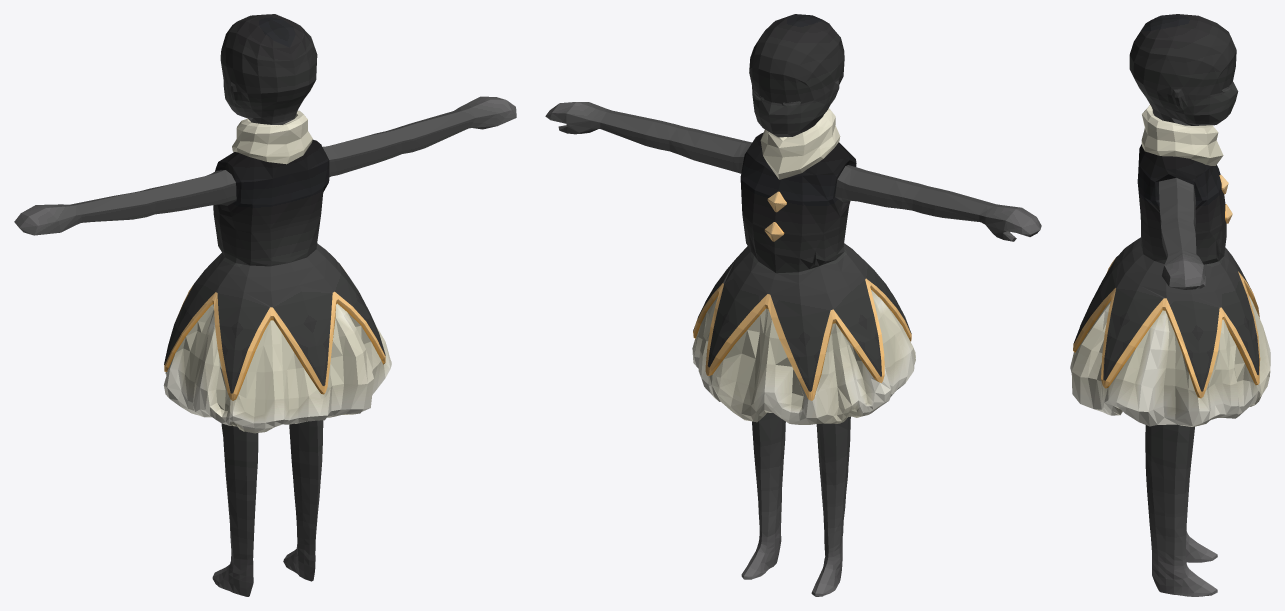
The model's file is CharSkyKid_Body_AP30PuffyDress.glb.
3 renders of one model, left to right at view 1: azimuth 30°, elevation 25°; view 2: azimuth 150°, elevation 25°; view 3: azimuth 270°, elevation 25°, orthographic.
Visible parts, largest first — view 1: CharSkyKid_Body_AP30PuffyDress; view 2: CharSkyKid_Body_AP30PuffyDress; view 3: CharSkyKid_Body_AP30PuffyDress.
Boxes of the visible parts, bbox=[...] form: CharSkyKid_Body_AP30PuffyDress: bbox=[14, 14, 516, 596]; CharSkyKid_Body_AP30PuffyDress: bbox=[545, 14, 1041, 596]; CharSkyKid_Body_AP30PuffyDress: bbox=[1070, 14, 1270, 596].
Size of the model in its own units: 13.83 by 14.94 by 4.87.
Materials: 1 (1 with a texture image).
